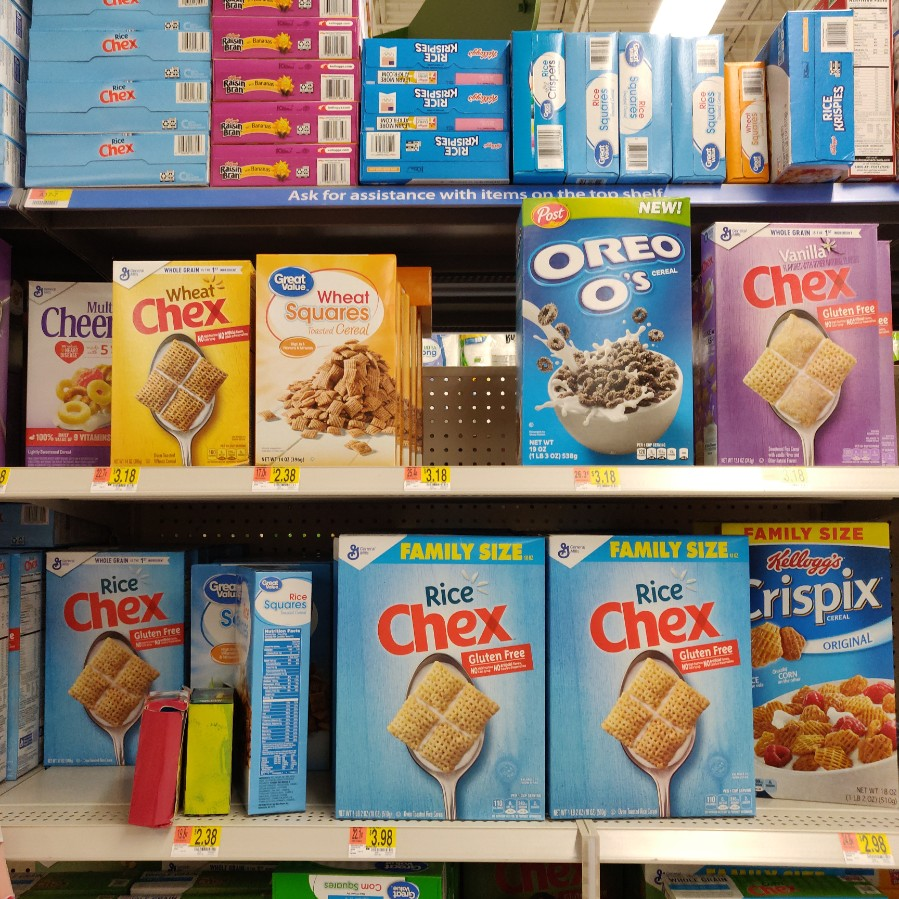Oreo-563424384: (520, 194, 695, 462)
